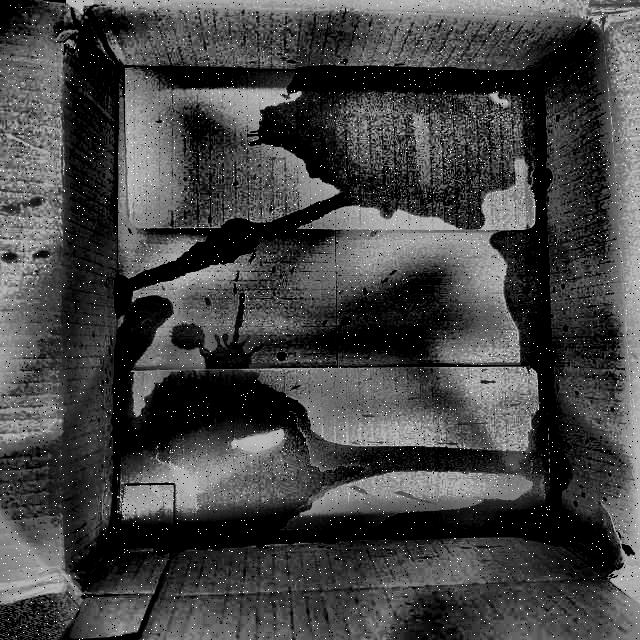box: (0, 0, 640, 640)
wet: (146, 64, 538, 232), (93, 357, 339, 571), (107, 202, 294, 354), (452, 417, 583, 545), (494, 237, 566, 371)
